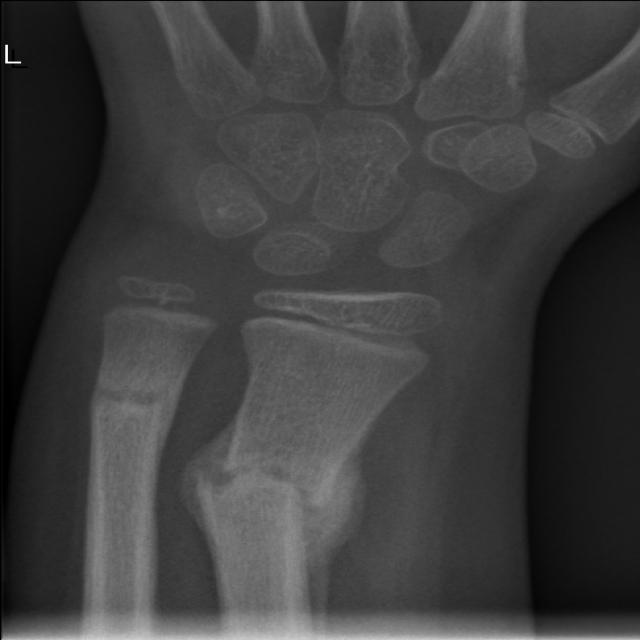radius fracture: (178, 390, 401, 596)
ulna fracture: (78, 301, 202, 486)
